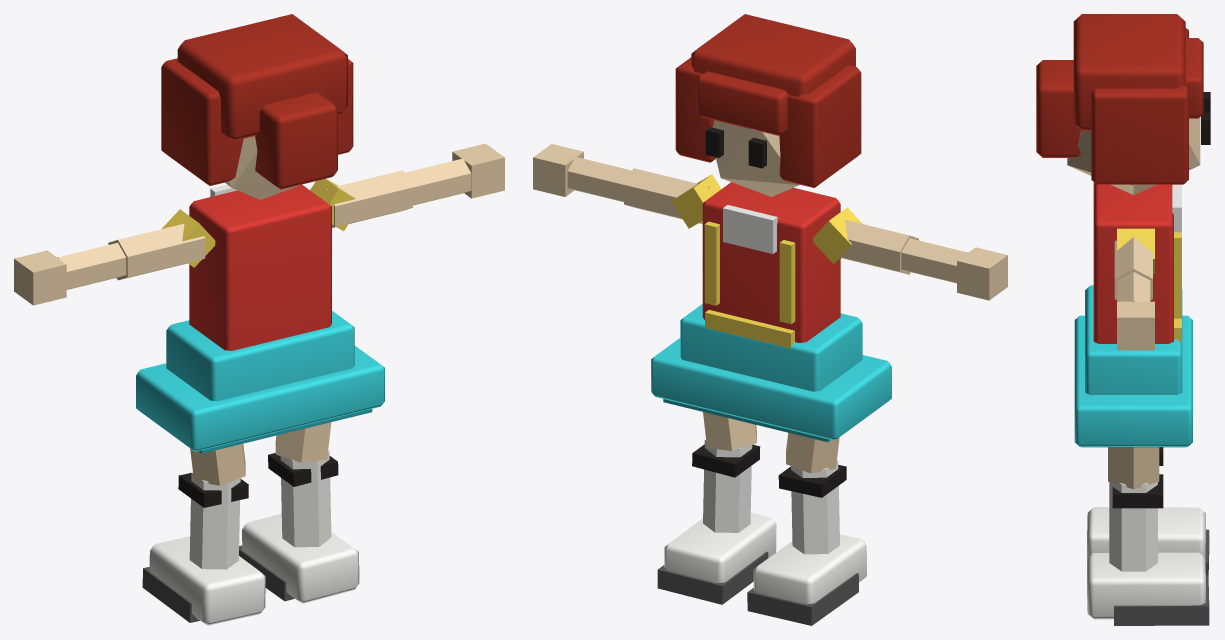
Rendered from Girl.fbx.
3 views of the same model, side by side, from view 1: azimuth 30°, elevation 25°; view 2: azimuth 150°, elevation 25°; view 3: azimuth 270°, elevation 25° (orthographic). The views are drawn at different scales.
Visible parts, largest first — view 1: Red Top, Hair Top, Skirt Lower, Skirt Upper, Hair Left, Hair Back, Right Boot, Left Boot, Left Sock, Right Sock, Left Upper Arm, Right Upper Arm (+15 smaller); view 2: Red Top, Skirt Lower, Hair Top, Skirt Upper, Hair Left, Left Boot, Right Boot, Hair Front, Head, Left Sock, Right Sock, Hair Right (+19 smaller); view 3: Hair Right, Hair Top, Red Top, Skirt Lower, Right Boot, Skirt Upper, Hair Back, Right Sock, Left Boot, Right Sole, Right Thigh, Right Hand (+9 smaller).
Part boxes in pixels (x1,y1,x2,y2): Red Top: (189,185,331,350); Hair Top: (177,14,347,141); Skirt Lower: (136,345,384,451); Skirt Upper: (166,311,354,401); Hair Left: (161,58,243,185); Hair Back: (255,92,337,189); Right Boot: (242,513,359,603); Left Boot: (149,536,265,625); Left Sock: (189,471,240,569); Right Sock: (280,450,331,547); Left Upper Arm: (108,223,205,280); Right Upper Arm: (324,170,412,227); Red Top: (702,182,840,342); Skirt Lower: (651,338,891,440); Hair Top: (691,14,855,96); Skirt Upper: (680,304,862,391); Hair Left: (779,65,861,187); Left Boot: (753,534,866,604); Right Boot: (664,512,776,583); Hair Front: (697,71,788,135); Head: (713,120,799,196); Left Sock: (791,460,839,554); Right Sock: (703,439,752,532); Hair Right: (675,57,715,162); Hair Right: (1091,82,1188,184); Hair Top: (1073,14,1185,130); Red Top: (1093,182,1173,343); Skirt Lower: (1074,315,1192,446); Right Boot: (1087,552,1205,619); Skirt Upper: (1085,285,1182,394); Hair Back: (1036,60,1080,157); Right Sock: (1109,482,1157,571); Left Boot: (1087,507,1205,558); Right Sole: (1114,575,1209,625); Right Thigh: (1108,447,1159,489); Right Hand: (1117,301,1154,350).
Size of the model in its own units: 2.55 by 2.86 by 0.8225.
